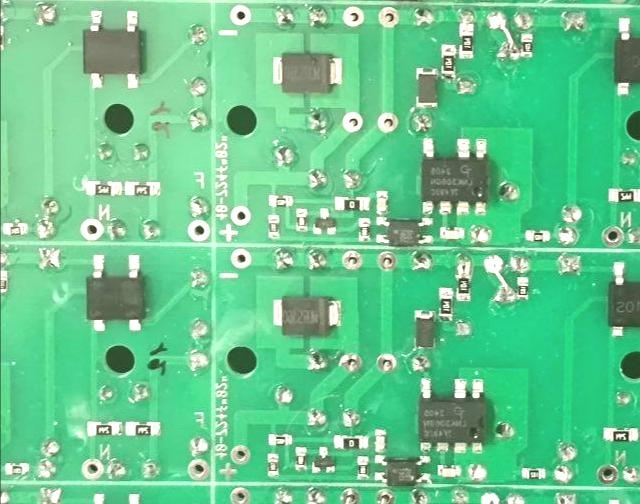chip-capacitor: (438, 226, 466, 240), (435, 464, 461, 479), (373, 428, 387, 453), (375, 190, 389, 215)
chip-resistor: (125, 420, 162, 438), (602, 425, 638, 443), (85, 420, 123, 437), (334, 195, 371, 212), (85, 180, 122, 197), (458, 22, 474, 60), (123, 181, 161, 197), (440, 43, 456, 80), (333, 434, 370, 450), (438, 287, 454, 323), (607, 188, 640, 204), (455, 274, 472, 302), (518, 32, 534, 59), (2, 221, 29, 237), (266, 214, 282, 240), (267, 193, 293, 208), (3, 462, 29, 477), (293, 445, 307, 472), (265, 452, 280, 477), (523, 229, 549, 243), (295, 207, 309, 233), (519, 466, 545, 480), (267, 433, 293, 447), (515, 276, 529, 302), (356, 454, 369, 481), (357, 217, 371, 242), (0, 268, 10, 294)
diode: (268, 49, 344, 94), (269, 294, 343, 338), (414, 66, 439, 110), (413, 308, 437, 352)
ic: (419, 137, 489, 215), (416, 377, 486, 455), (81, 8, 143, 91), (84, 252, 146, 332), (607, 260, 640, 339), (372, 455, 432, 486), (374, 215, 435, 245)
transistor: (310, 206, 338, 236), (309, 445, 336, 475)
